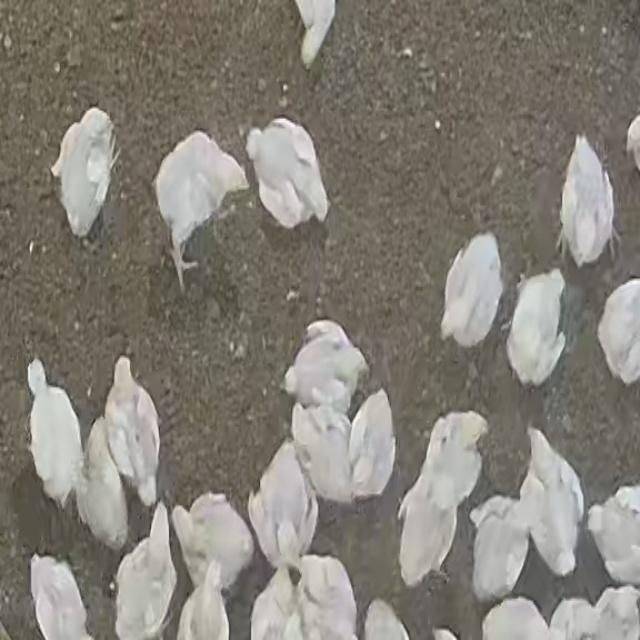chicken: (157, 131, 247, 269), (242, 443, 316, 572), (245, 122, 334, 229), (111, 500, 176, 640), (21, 353, 80, 507), (522, 422, 579, 580), (103, 358, 161, 507), (54, 107, 119, 239), (172, 494, 255, 591), (280, 320, 369, 408), (504, 268, 566, 388), (440, 233, 501, 352), (559, 133, 613, 267), (465, 494, 530, 605), (75, 418, 128, 548), (289, 401, 355, 505), (399, 464, 454, 585), (427, 410, 491, 510), (348, 387, 398, 503), (29, 551, 90, 640), (587, 483, 640, 585), (595, 276, 640, 388), (299, 550, 355, 640), (182, 559, 232, 640), (251, 564, 302, 640), (475, 593, 544, 640)
